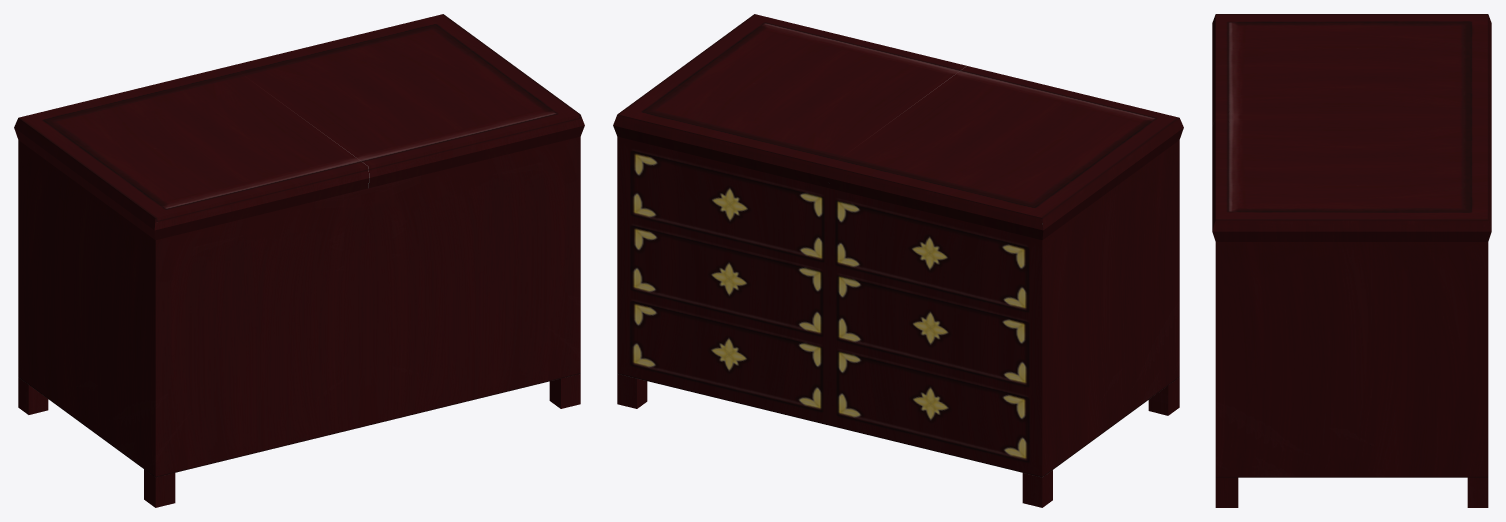
The model's file is NNJ0810016.fbx.
The picture shows the model from 3 angles, left to right: view 1: azimuth 30°, elevation 25°; view 2: azimuth 150°, elevation 25°; view 3: azimuth 270°, elevation 25°; orthographic projection.
Visible parts, largest first — view 1: smNNJ0810016; view 2: smNNJ0810016; view 3: smNNJ0810016.
Boxes of the visible parts, box(x1,y1,x2,y2) form: smNNJ0810016: box(14, 14, 584, 507); smNNJ0810016: box(613, 14, 1183, 507); smNNJ0810016: box(1212, 14, 1491, 507).
Bounding box in the file's own units: 170 × 110 × 96.32.
1 material, 1 textured.
